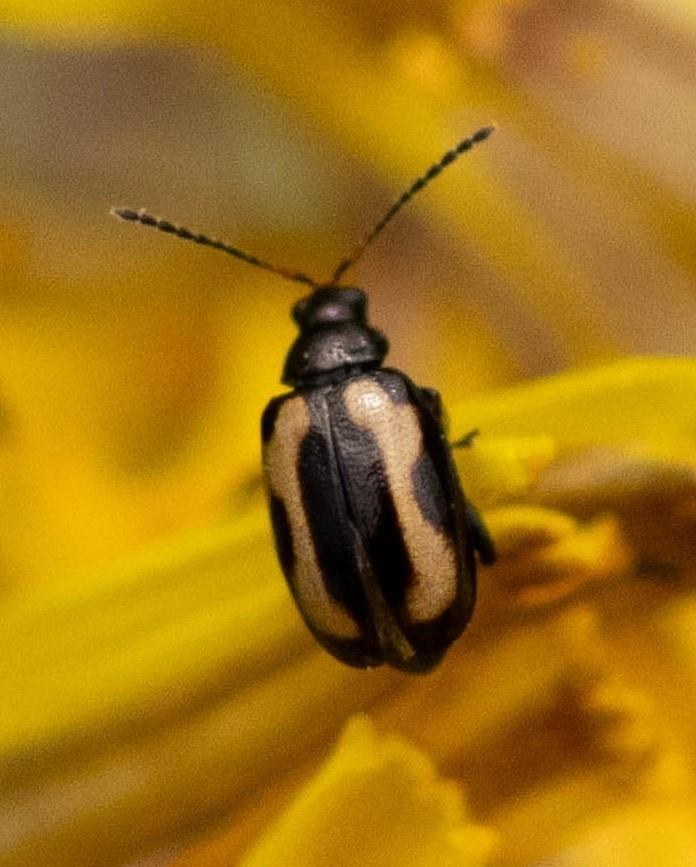flea_beetle: (75, 43, 642, 752)
